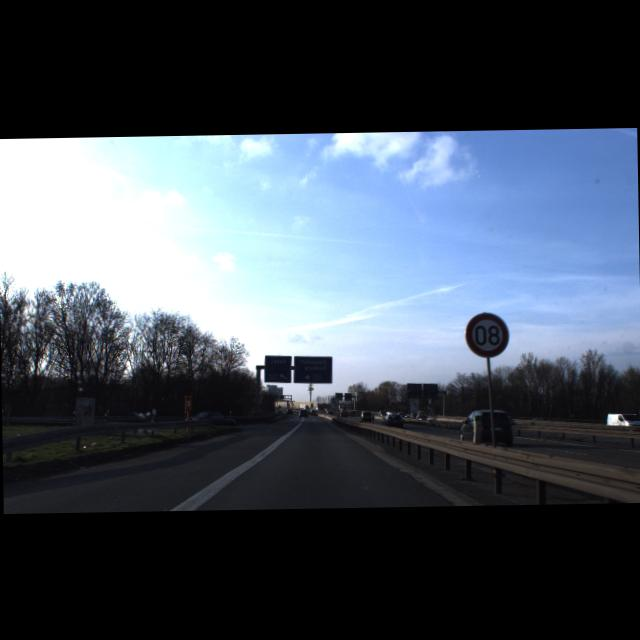prohibitory: (464, 310, 510, 358)
